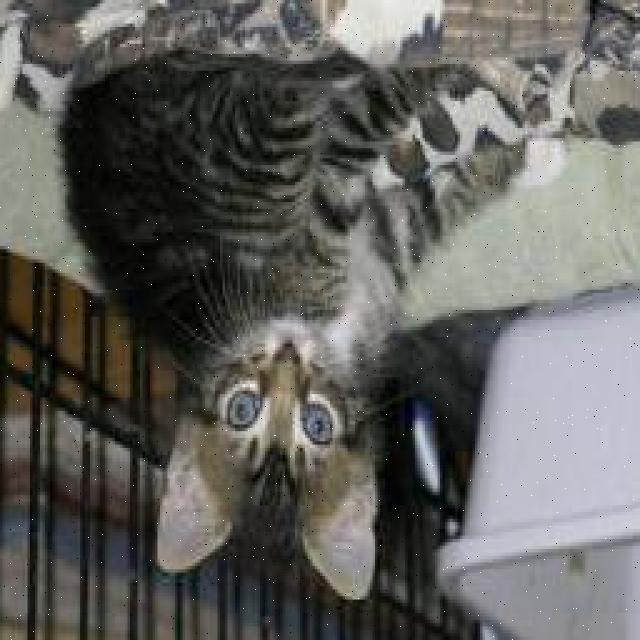Cat: (153, 293, 386, 601)
